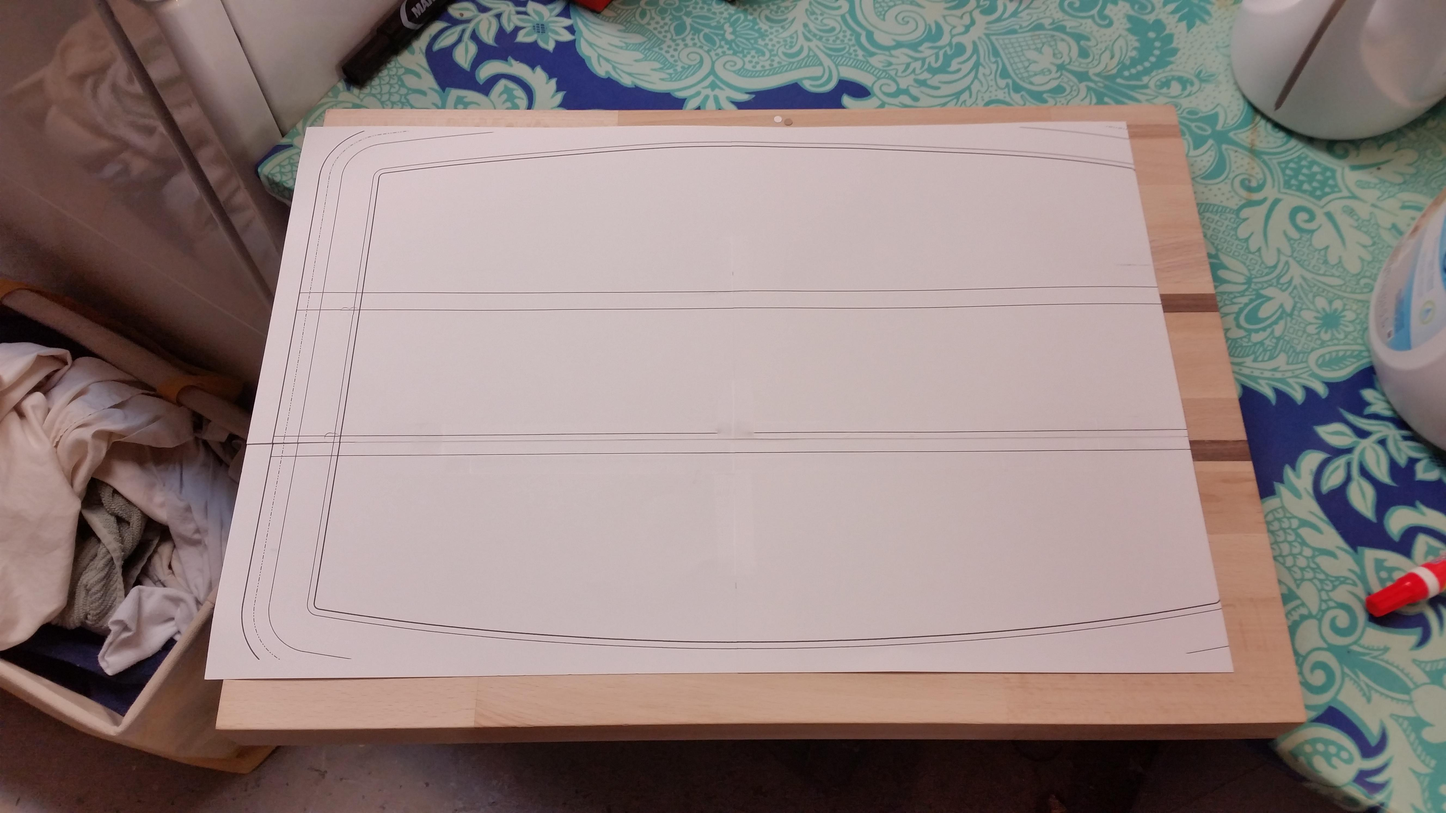gloved_hand: (210, 88, 1322, 771)
